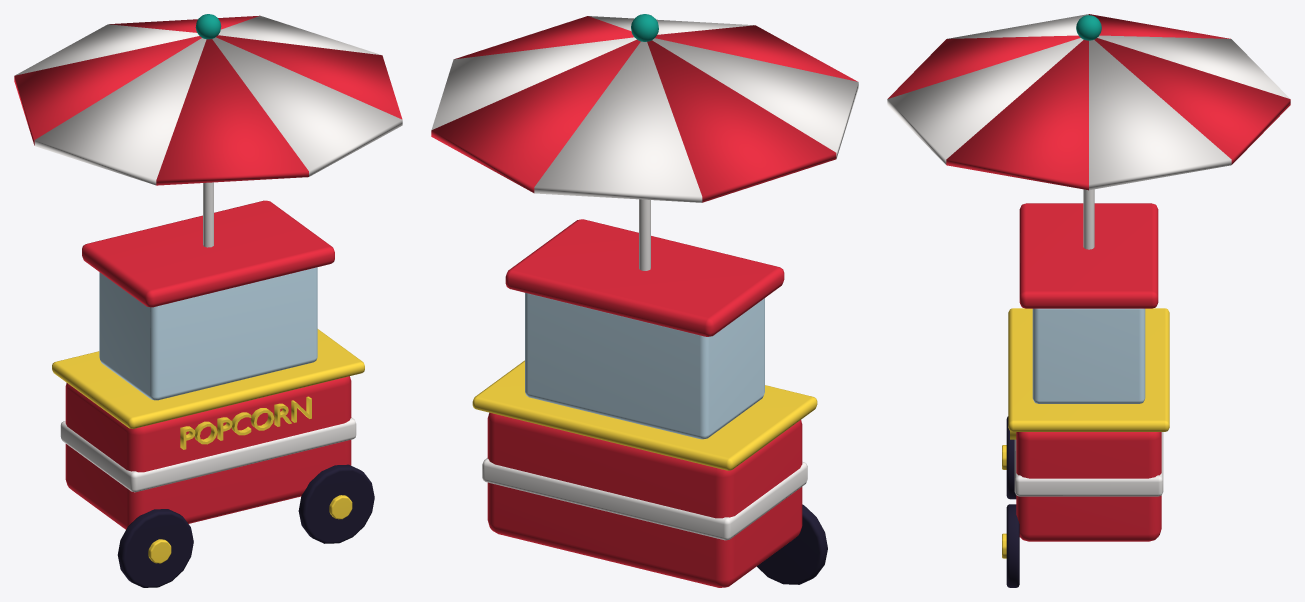
The model's file is popcorn_cart.glb.
3 views of the same model, side by side, from view 1: azimuth 30°, elevation 25°; view 2: azimuth 150°, elevation 25°; view 3: azimuth 270°, elevation 25° (orthographic). The views are drawn at different scales.
Parts seen in each view (by area): view 1: PopcornCart; view 2: PopcornCart; view 3: PopcornCart.
Boxes of the visible parts, box(x1,y1,x2,y2) form: PopcornCart: box(14, 14, 402, 587); PopcornCart: box(431, 14, 858, 587); PopcornCart: box(887, 14, 1290, 587).
Size of the model in its own units: 2.5 by 3.58 by 2.5.
